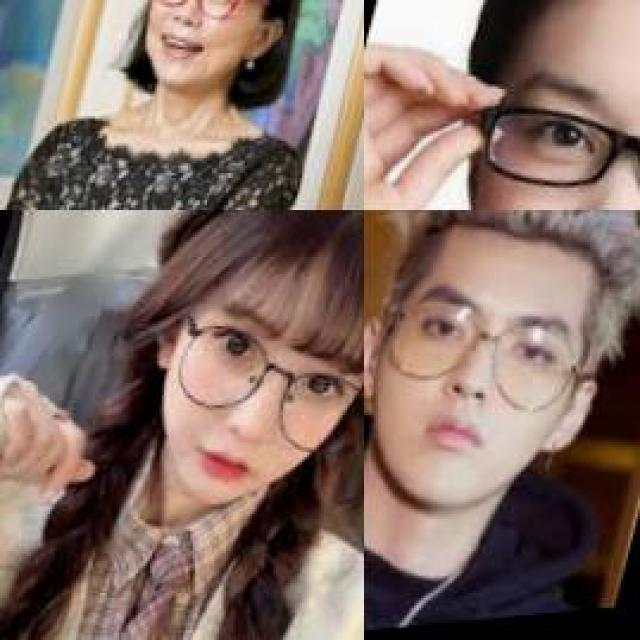glasses: (150, 289, 362, 504), (364, 282, 595, 444), (442, 66, 638, 208), (140, 0, 276, 42)
